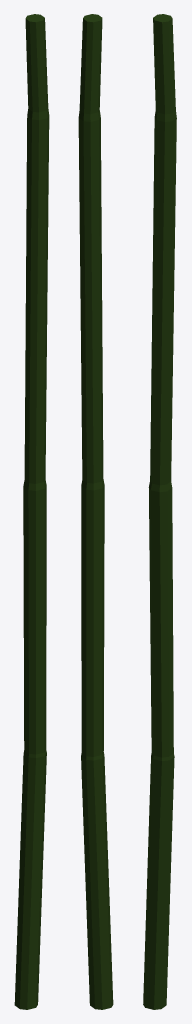
File: Stem.fbx
3 renders of one model, left to right at view 1: azimuth 30°, elevation 25°; view 2: azimuth 210°, elevation 25°; view 3: azimuth 330°, elevation 25°, orthographic.
Parts seen in each view (by area): view 1: Stem.001; view 2: Stem.001; view 3: Stem.001.
Boxes of the visible parts, bbox=[...] form: Stem.001: bbox=[14, 14, 49, 1009]; Stem.001: bbox=[78, 14, 113, 1009]; Stem.001: bbox=[143, 14, 176, 1009].
Bounding box in the file's own units: 64.69 × 2093 × 46.3.
